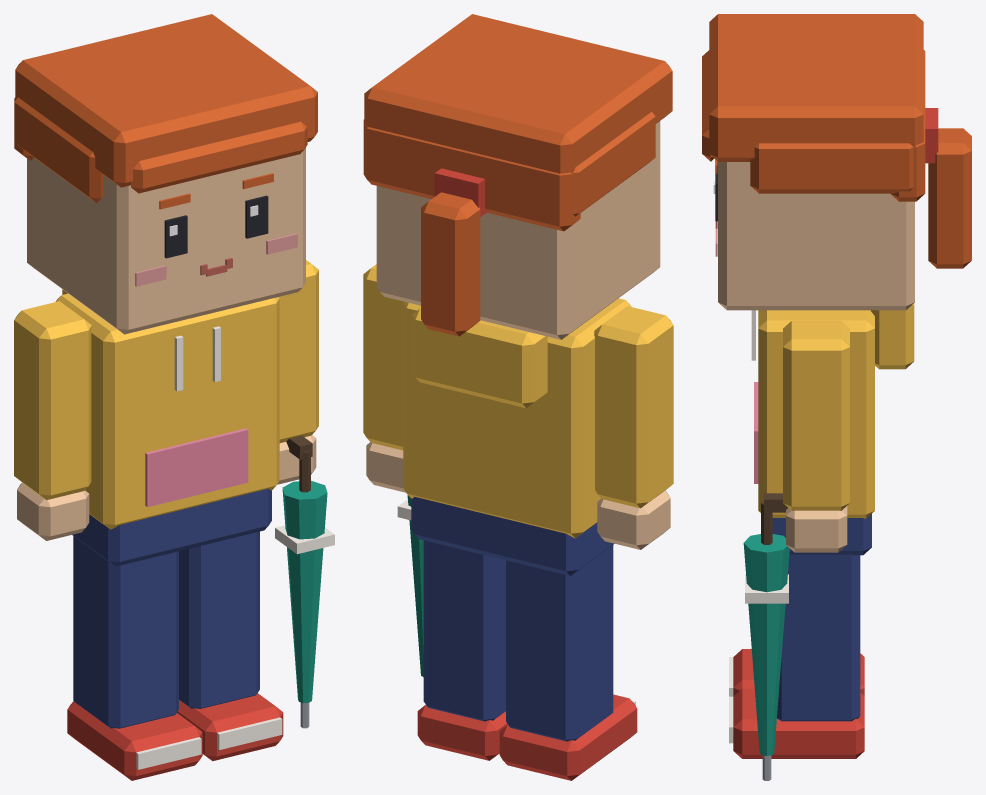
File: CatCafe_NPC_Customer_J.glb
3 views of the same model, side by side, from view 1: azimuth 30°, elevation 25°; view 2: azimuth 150°, elevation 25°; view 3: azimuth 270°, elevation 25° (orthographic).
Visible parts, largest first — view 1: CatCafe_NPC_Customer_J; view 2: CatCafe_NPC_Customer_J; view 3: CatCafe_NPC_Customer_J.
Boxes of the visible parts, x1,y1,x2,y2 form: CatCafe_NPC_Customer_J: (14,14,334,780); CatCafe_NPC_Customer_J: (363,14,673,780); CatCafe_NPC_Customer_J: (702,14,971,780).
Size of the model in its own units: 2.22 by 5.02 by 1.85.
1 material, 1 textured.
